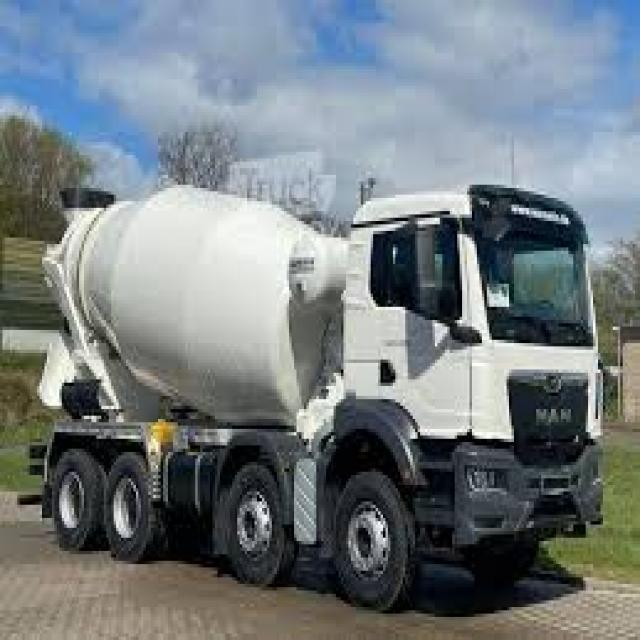Mixer Truck: (15, 177, 606, 618)
